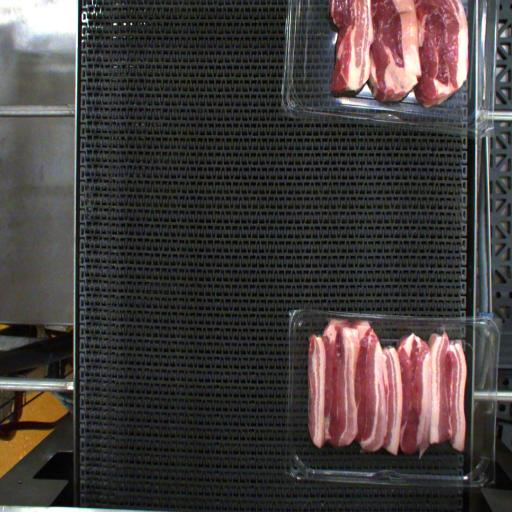packaging-error: (328, 308, 380, 327), (436, 316, 454, 342)
